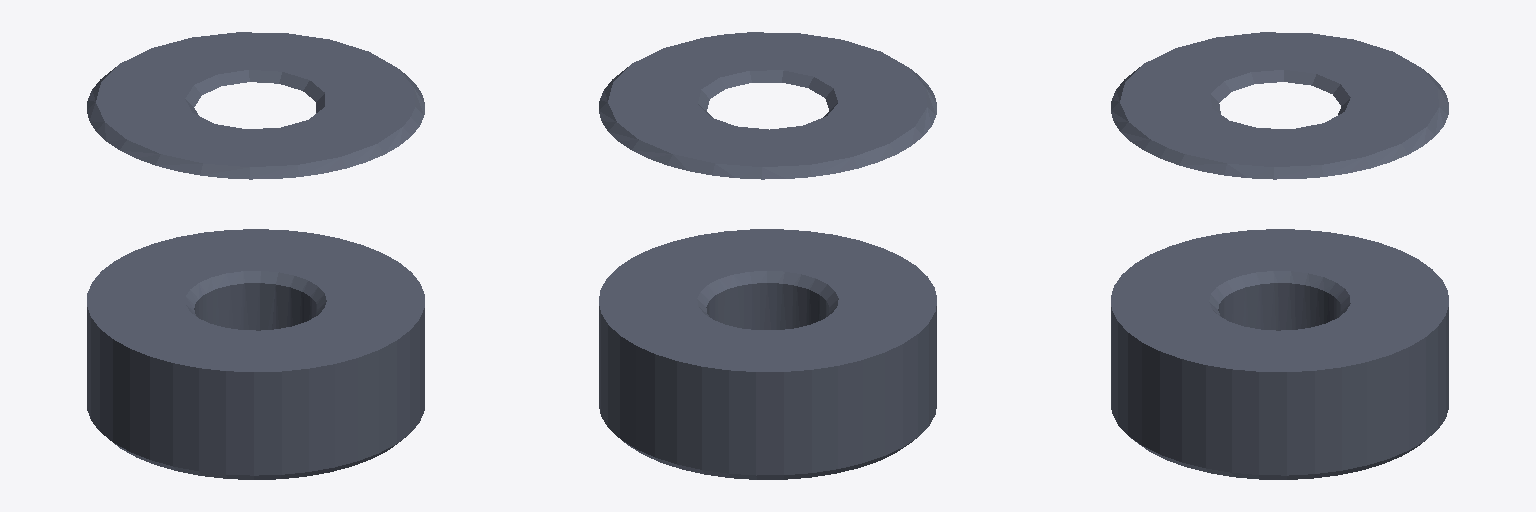
Rendered from solo_upper_leg_right_side_8.obj.
The picture shows the model from 3 angles: view 1: azimuth 30°, elevation 25°; view 2: azimuth 150°, elevation 25°; view 3: azimuth 270°, elevation 25°; orthographic projection.
Size of the model in its own units: 0.011 by 0.0112 by 0.011.